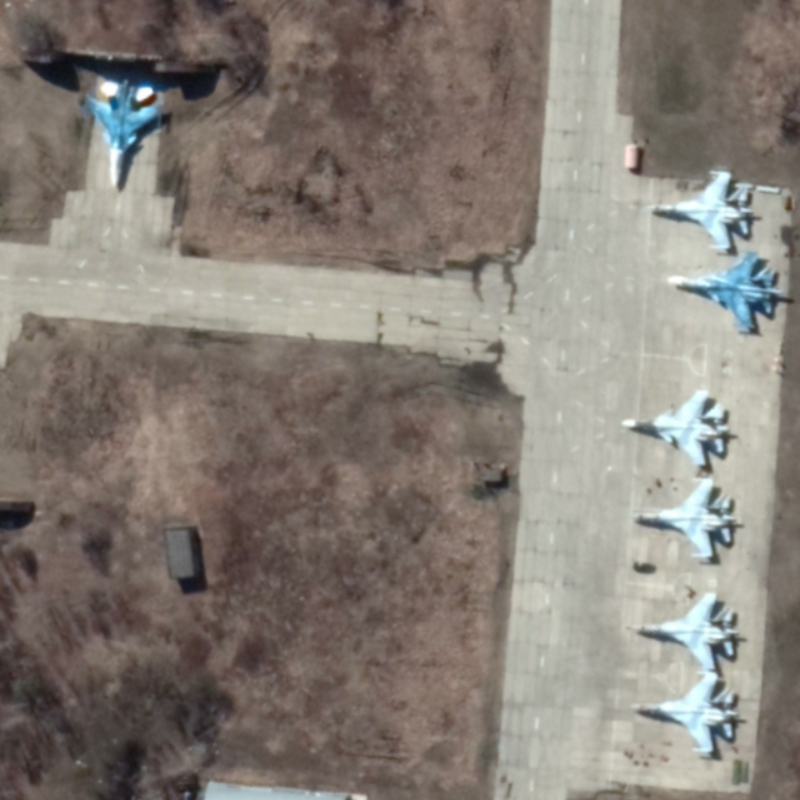A1: (628, 669, 739, 754), (629, 476, 737, 559), (628, 591, 740, 671), (647, 169, 756, 251)
A19: (665, 249, 782, 333), (83, 78, 164, 190), (619, 387, 731, 468)
